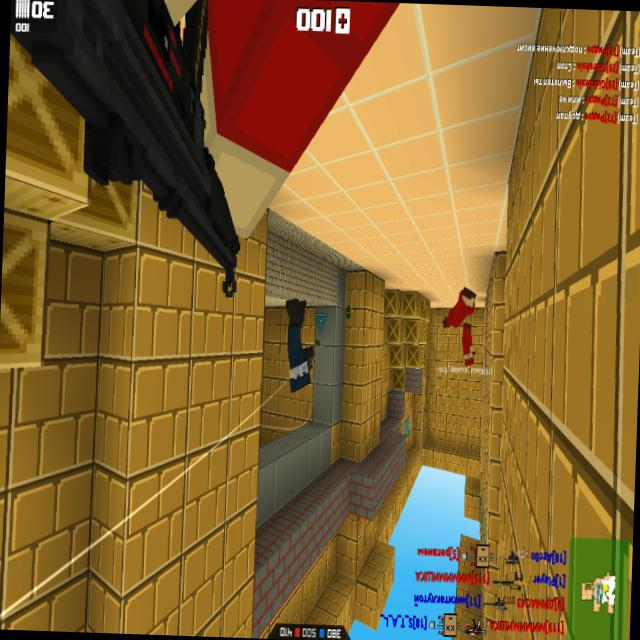enemy: (282, 298, 316, 394)
